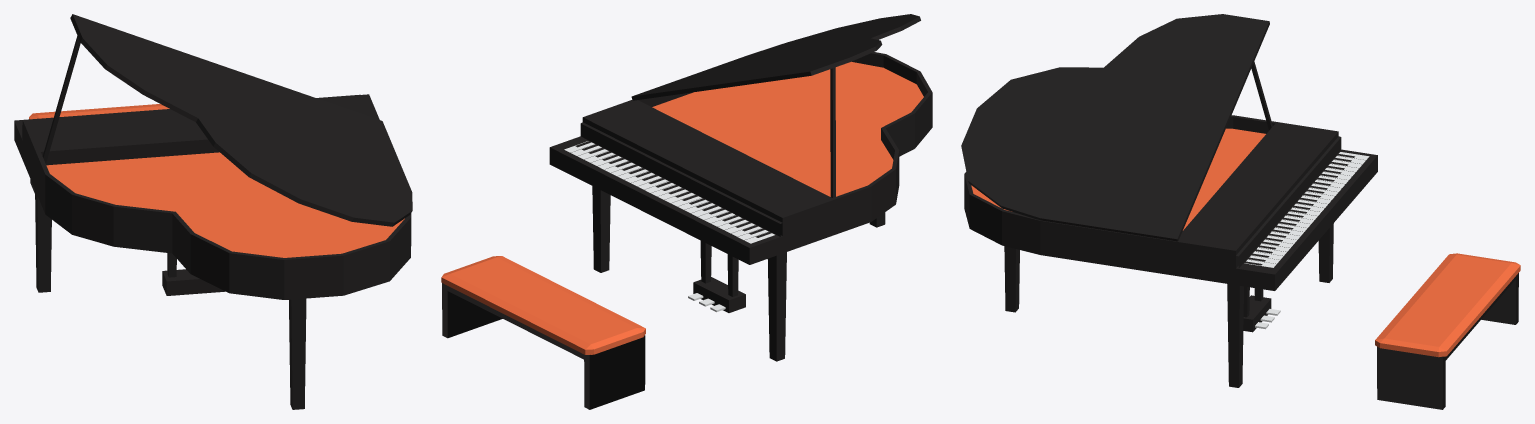
Rendered from M_Tgangqin.FBX.
3 renders of one model, left to right at view 1: azimuth 30°, elevation 25°; view 2: azimuth 150°, elevation 25°; view 3: azimuth 270°, elevation 25°, orthographic. The views are drawn at different scales.
Parts seen in each view (by area): view 1: M_Tgangqin01_01, M_Tgangqin01_02; view 2: M_Tgangqin01_01, M_Tgangqin01_02; view 3: M_Tgangqin01_01, M_Tgangqin01_02.
Part boxes in pixels (bbox=[...]): M_Tgangqin01_01: bbox=[14, 14, 412, 409]; M_Tgangqin01_02: bbox=[29, 104, 169, 119]; M_Tgangqin01_01: bbox=[442, 14, 932, 409]; M_Tgangqin01_02: bbox=[441, 256, 645, 354]; M_Tgangqin01_01: bbox=[961, 14, 1518, 409]; M_Tgangqin01_02: bbox=[1375, 253, 1520, 357].
Bounding box in the file's own units: 2.57 × 2.03 × 4.
